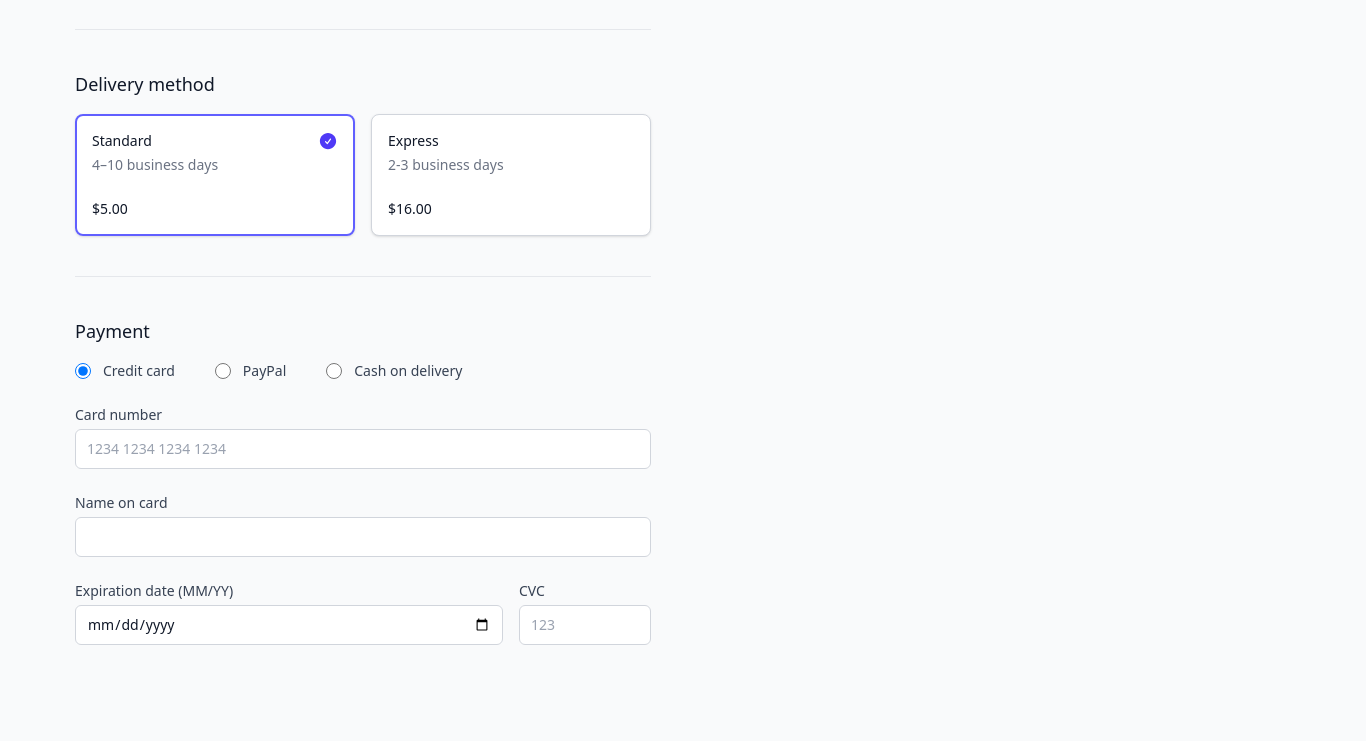
CheckoutPage Component › shows cash on delivery message when cash payment is selected
(page scrolled)
Note: Change to Cash on delivery
Click the radio button labelled "Cash on delivery": (334, 371) [326,363,342,379]
(page scrolled)
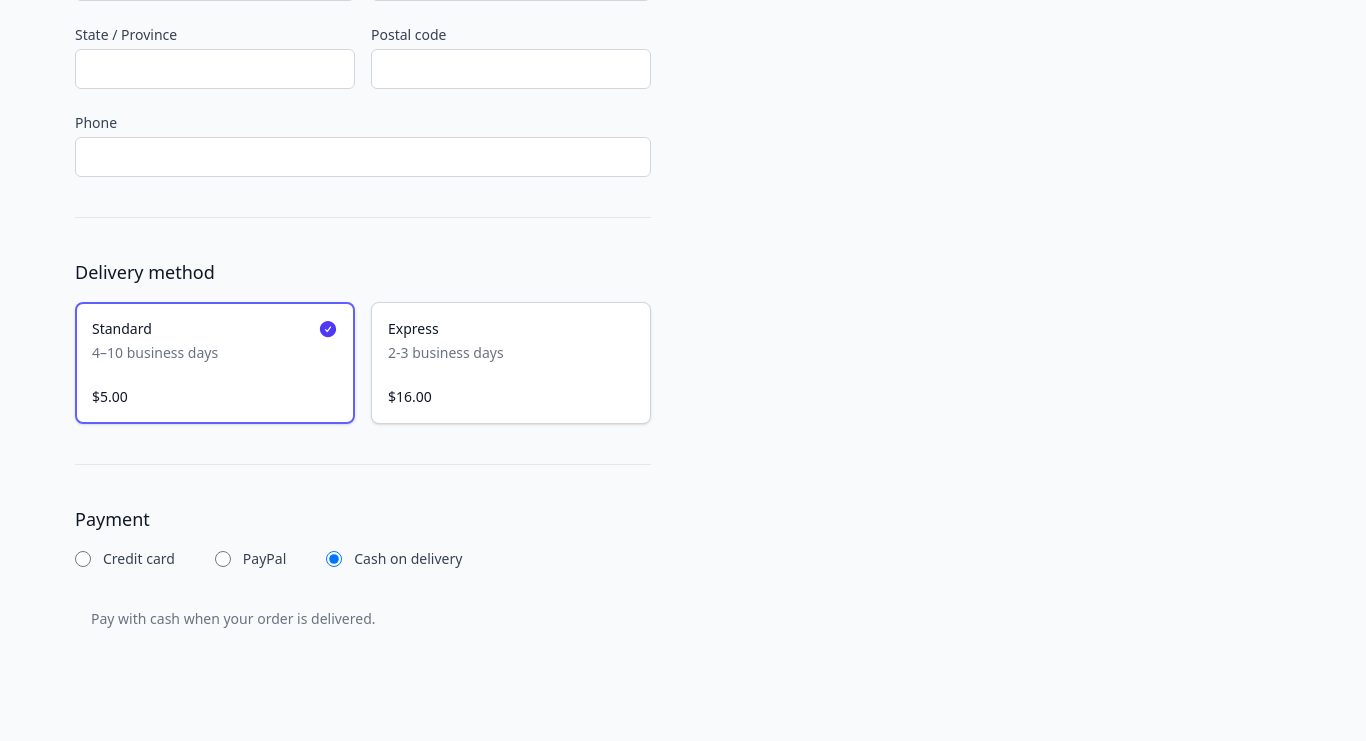
Check: the text "Pay with cash when your order is delivered." is shown, box [91,609,376,628]
Check: the label labelled "Card number" is gone
